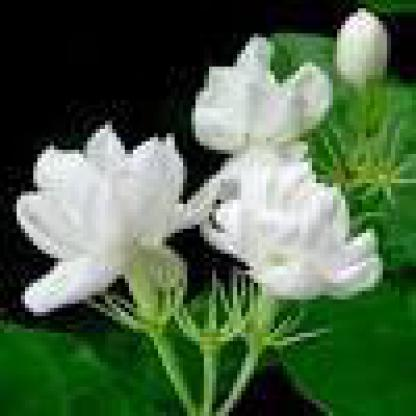Melati: (10, 80, 189, 367), (197, 26, 367, 296), (322, 5, 401, 93)
